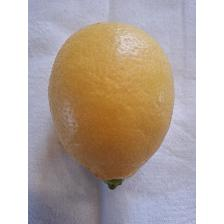Zitrone: (47, 19, 178, 192)
